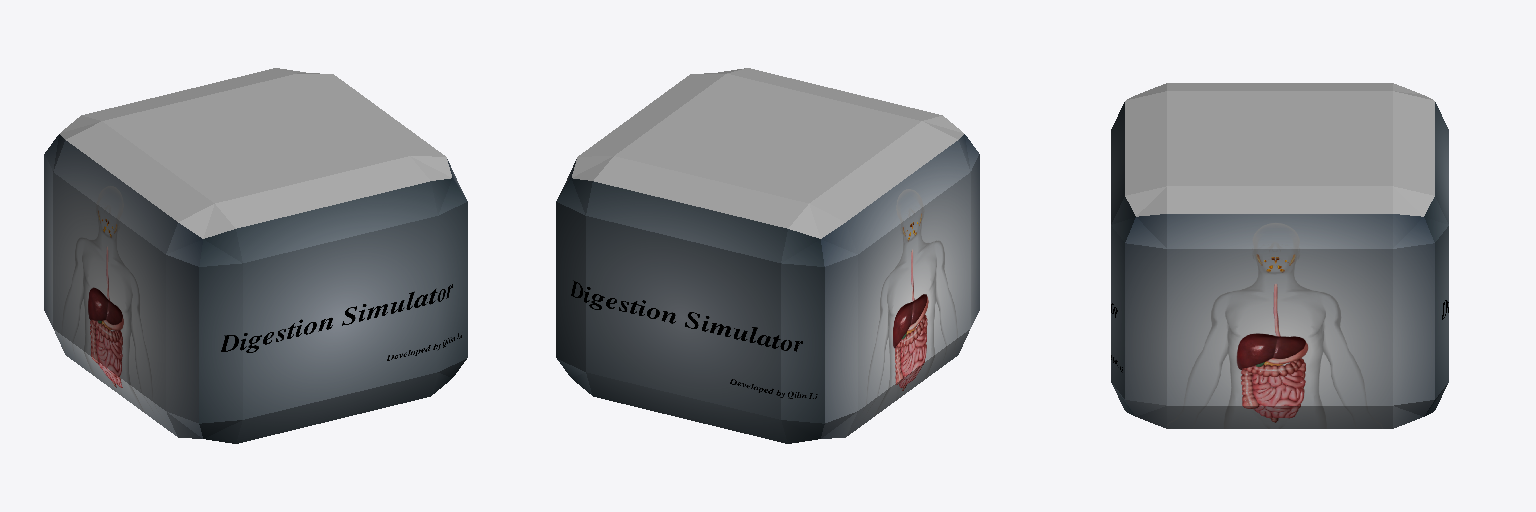
3 renders of one model, left to right at view 1: azimuth 30°, elevation 25°; view 2: azimuth 150°, elevation 25°; view 3: azimuth 270°, elevation 25°, orthographic.
Visible parts, largest first — view 1: Box1; view 2: Box1; view 3: Box1.
Boxes of the visible parts, box(x1,y1,x2,y2) form: Box1: box(44, 68, 467, 443); Box1: box(556, 68, 979, 443); Box1: box(1111, 83, 1448, 428).
Size of the model in its own units: 30 by 23 by 30.
Materials: 3 (2 with a texture image).